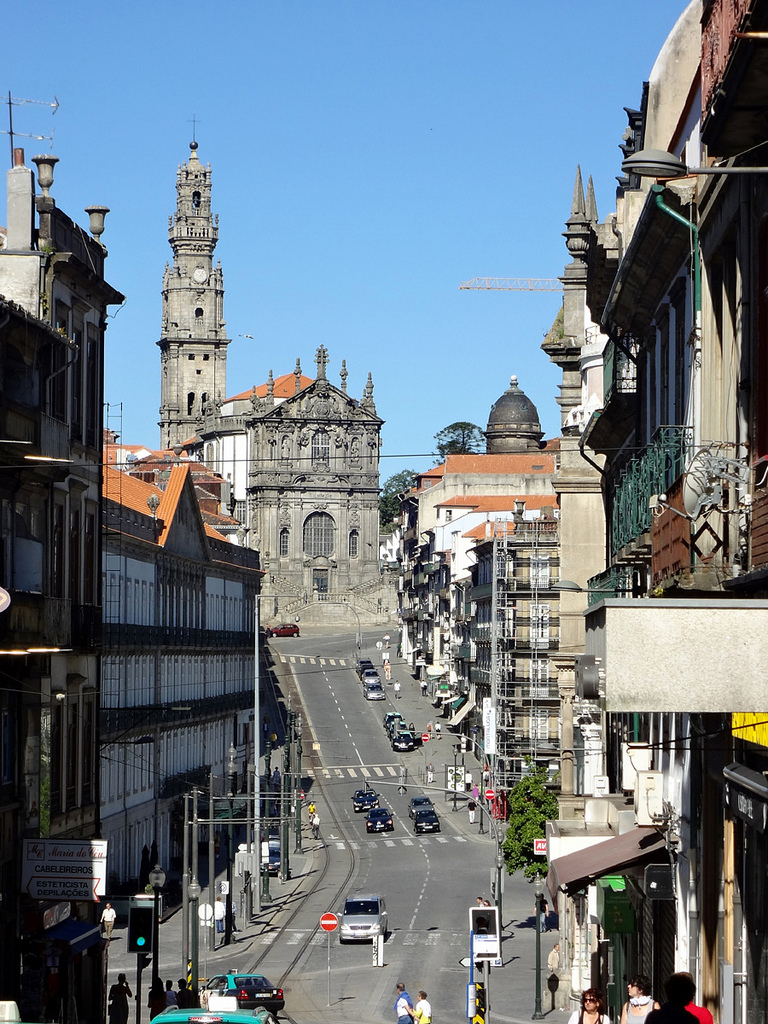clerigos: (157, 117, 235, 457)
